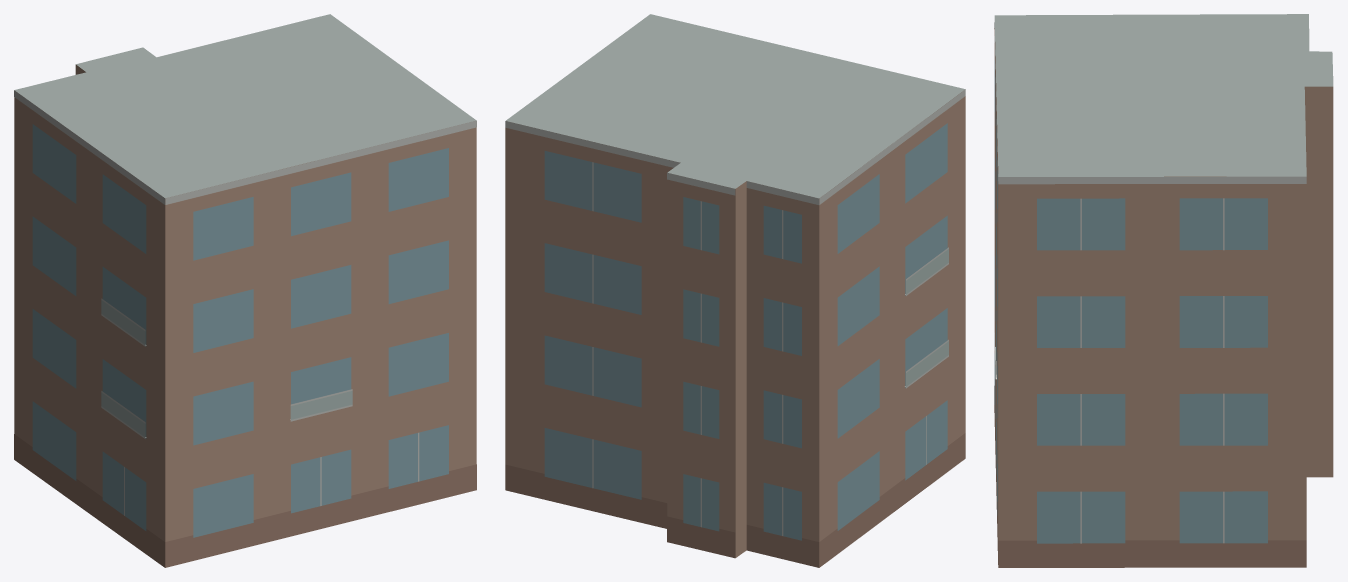
The model's file is survey-upis-32901928.glb.
3 views of the same model, side by side, from view 1: azimuth 30°, elevation 25°; view 2: azimuth 150°, elevation 25°; view 3: azimuth 270°, elevation 25° (orthographic). The views are drawn at different scales.
Parts seen in each view (by area): view 1: survey-upis-32901928.tmp; view 2: survey-upis-32901928.tmp; view 3: survey-upis-32901928.tmp.
Boxes of the visible parts, box(x1,y1,x2,y2) form: survey-upis-32901928.tmp: box(14, 14, 476, 567); survey-upis-32901928.tmp: box(505, 14, 965, 567); survey-upis-32901928.tmp: box(994, 14, 1333, 567).
Size of the model in its own units: 11.81 by 13.2 by 10.39.
